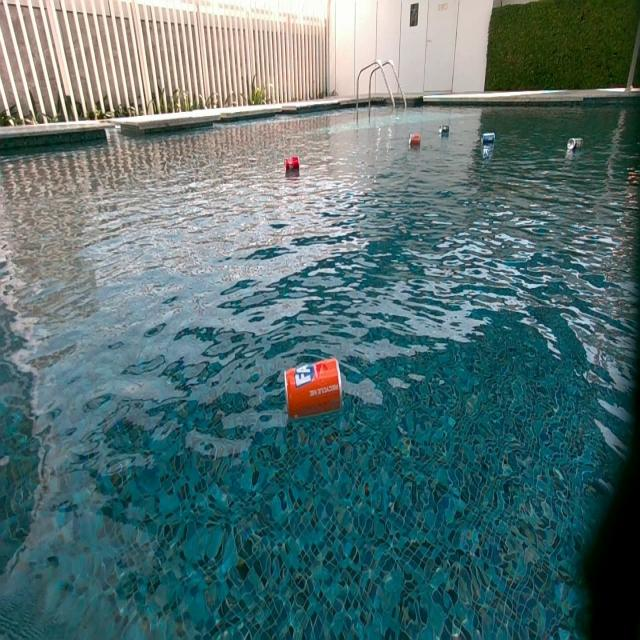Cans: (283, 356, 343, 421), (291, 360, 342, 394), (566, 138, 583, 154), (482, 132, 497, 148), (285, 157, 299, 173), (410, 133, 422, 148), (482, 146, 494, 160), (438, 125, 450, 135)
